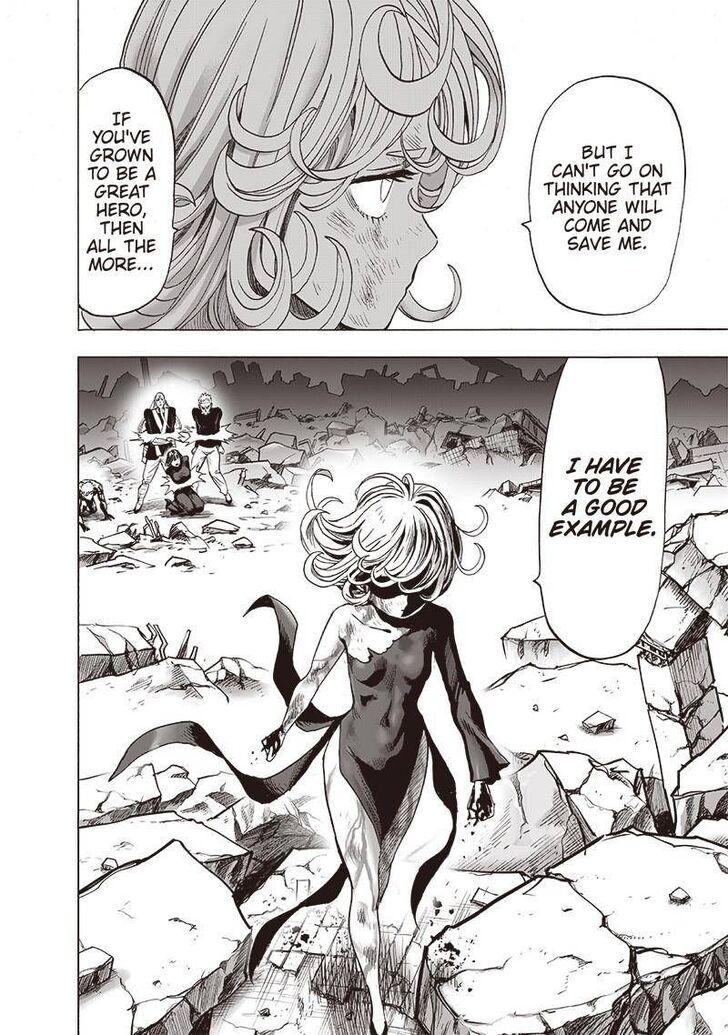Bubble: (536, 355, 670, 661), (524, 73, 691, 317), (76, 65, 177, 319)
